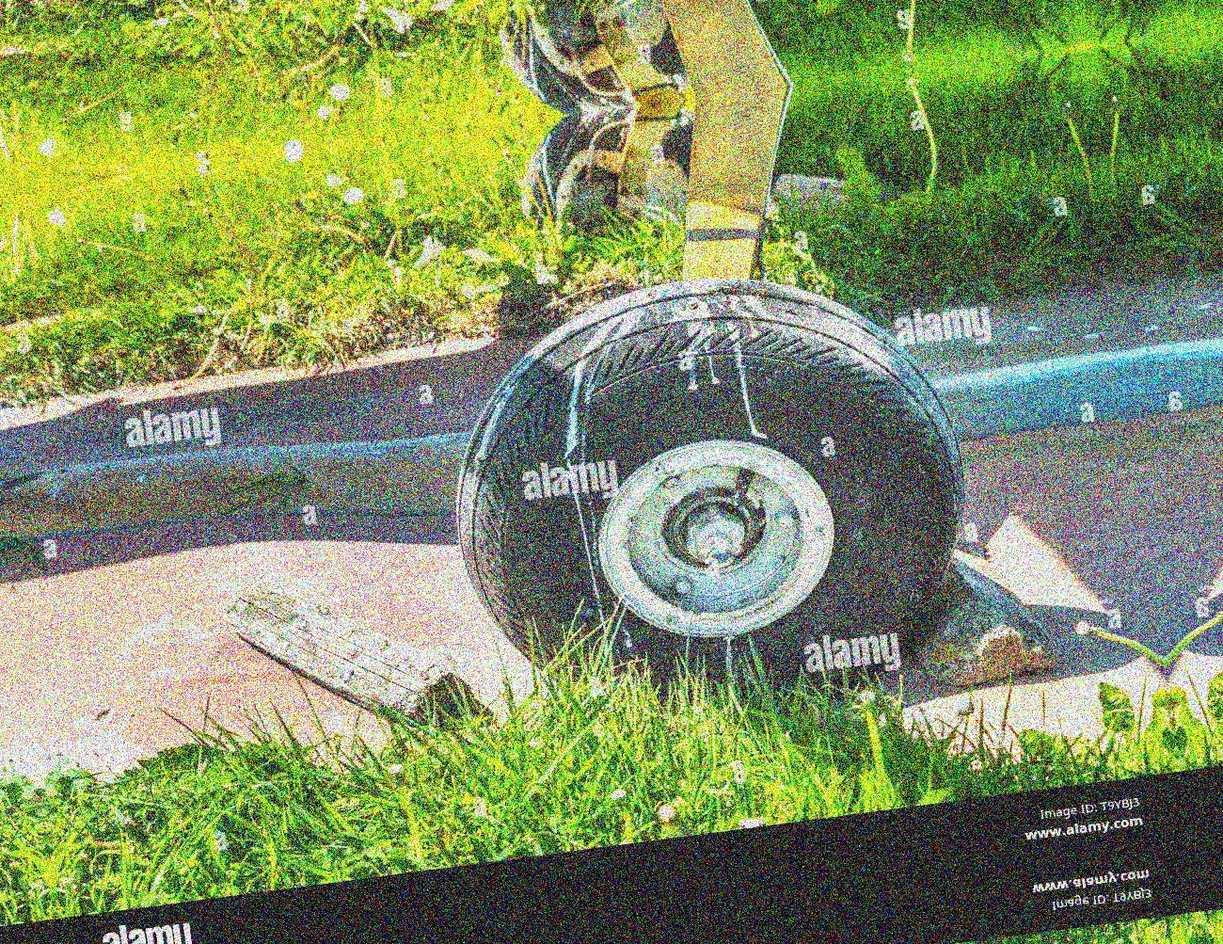chock: (216, 537, 480, 757), (894, 519, 1066, 697)
wheel: (429, 249, 988, 728)
